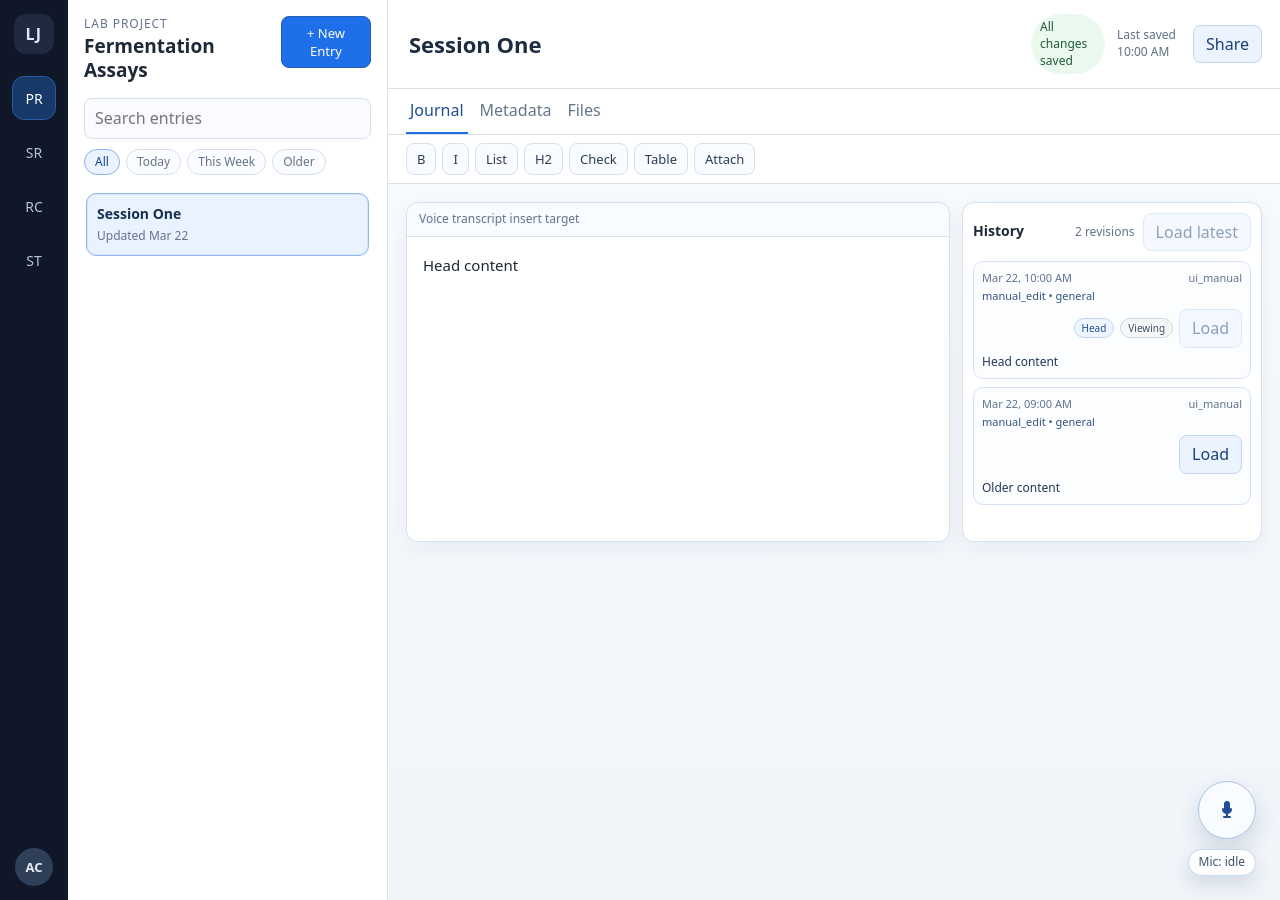
Test case: AppShell revision flow › blocks autosave when session head moved and does not append
Expected: the field showing "Session One" is shown, [406,24,1015,65]
Click the button "Load" below "Mar 22, 09:00 AM": (1211, 454) [1179,435,1242,474]
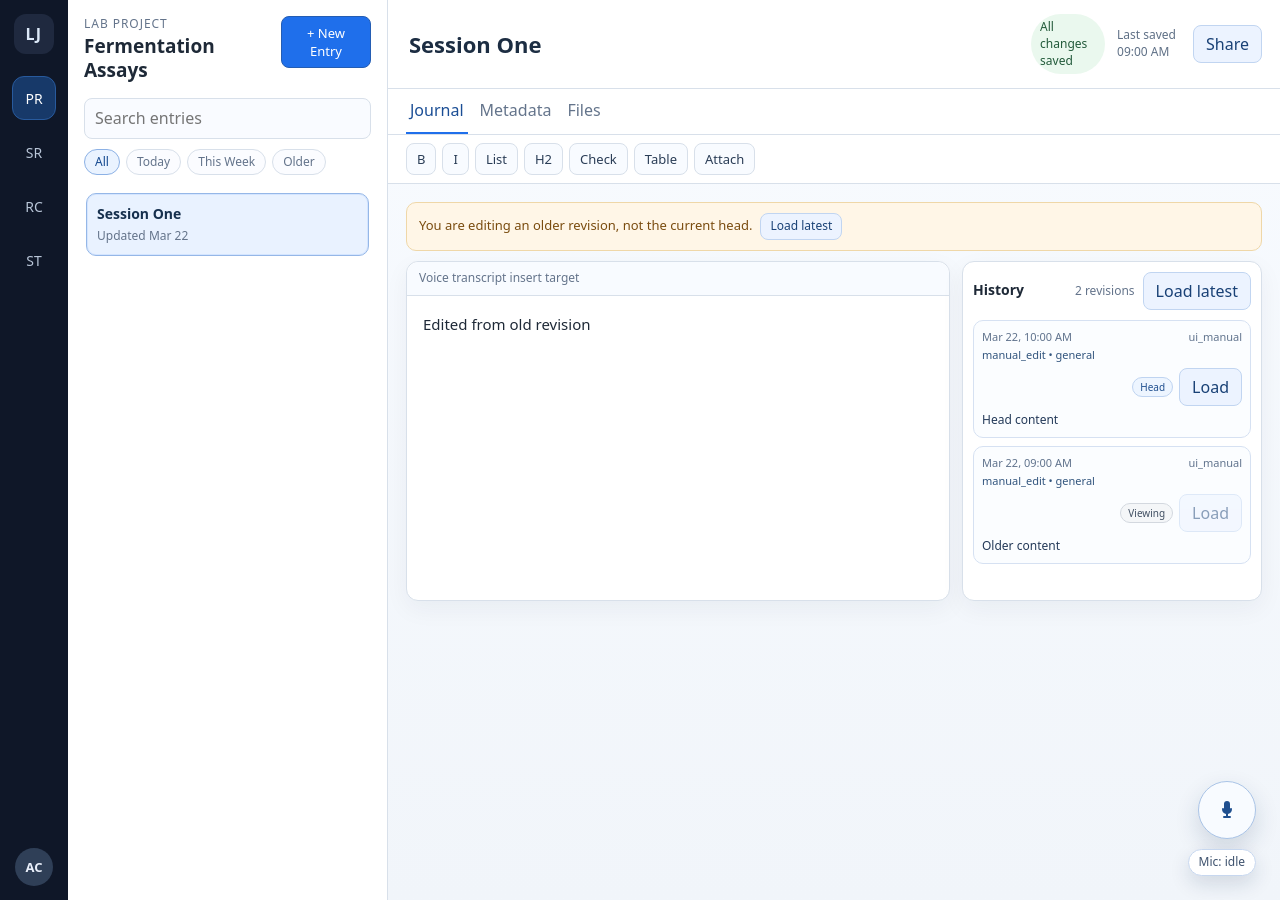
Clear the text box named "Journal editor": (507, 324) [423,314,590,334]
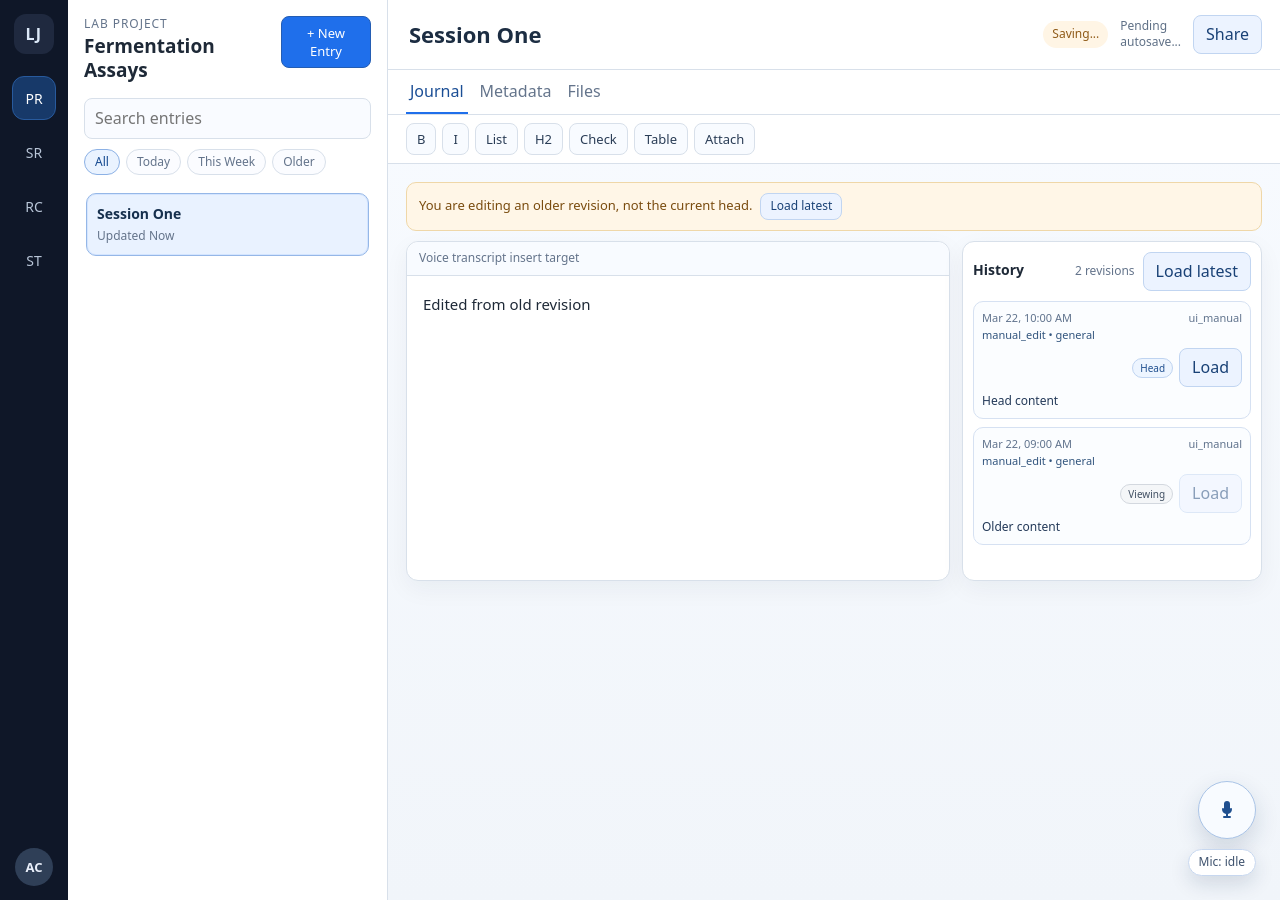
Leave the text box named "Journal editor", box [423,294,590,314]
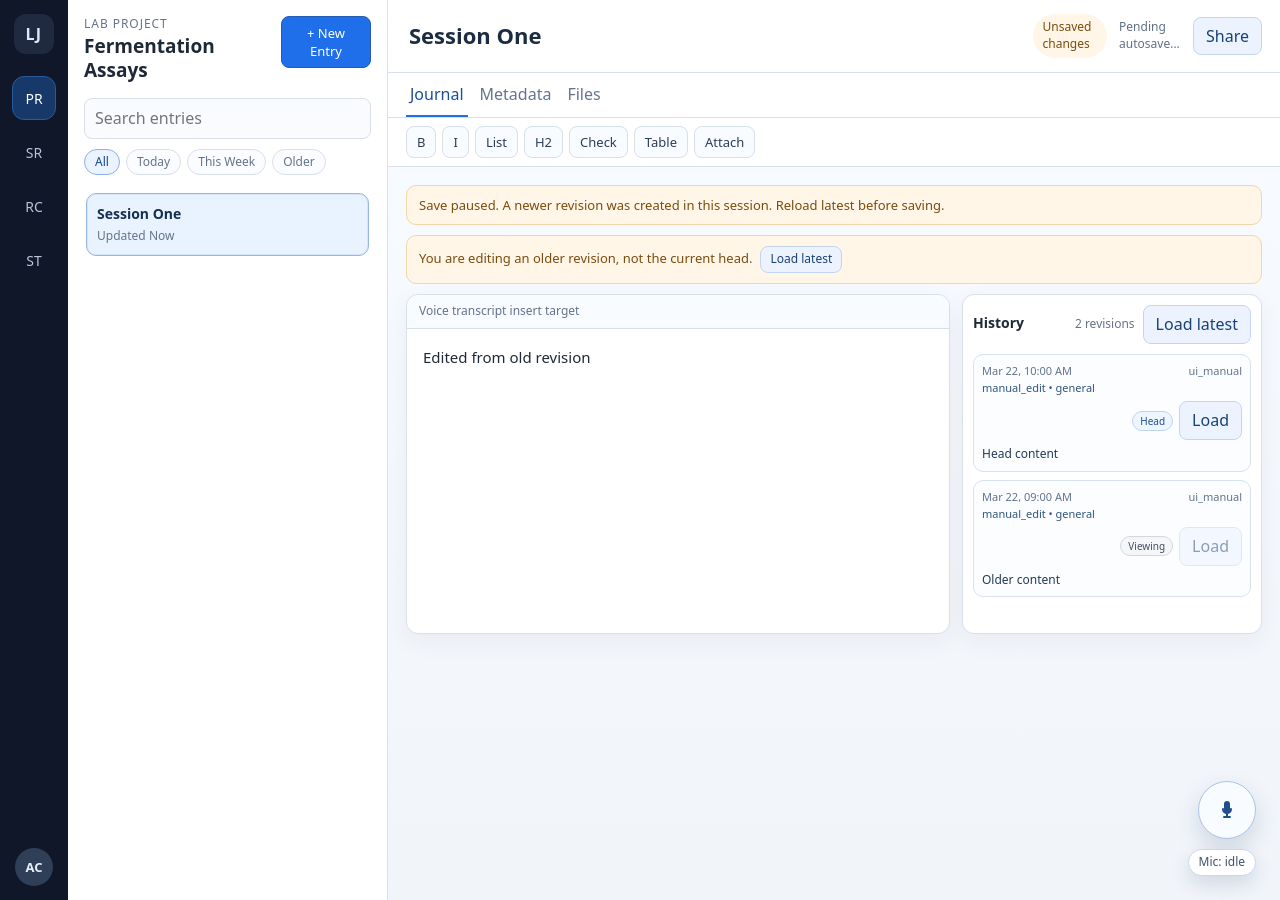
Now the text "Save paused. A newer revision was created in this session. Reload latest before saving." is shown, box [419,196,944,214]
